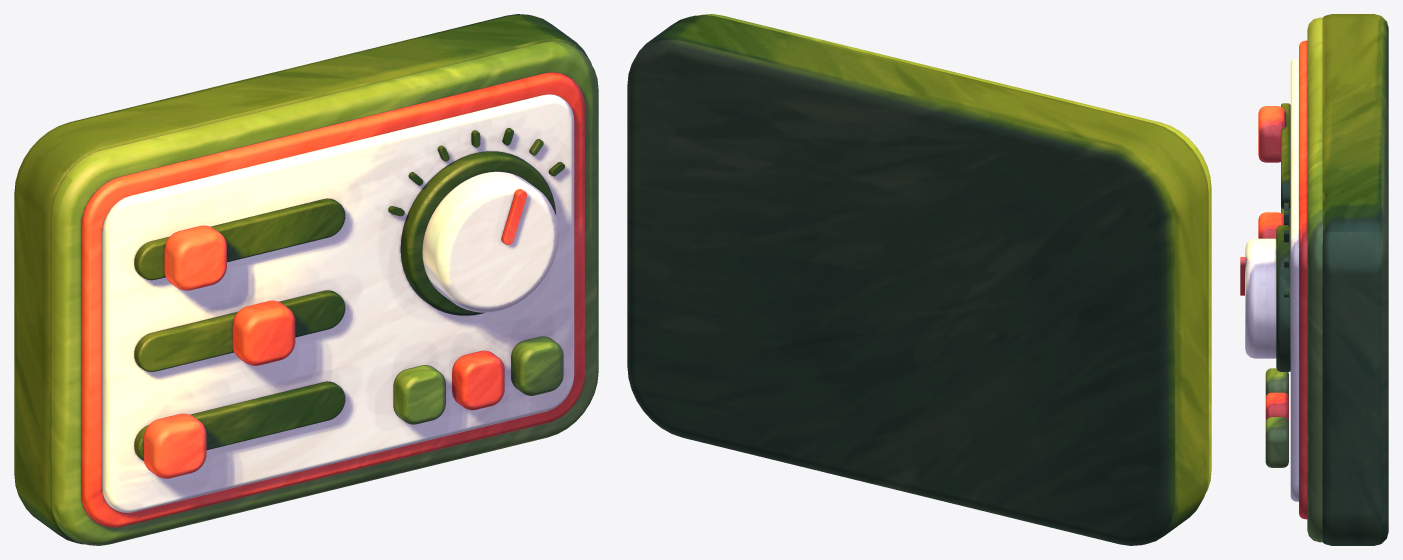
Rendered from settings.glb.
3 views of the same model, side by side, from view 1: azimuth 30°, elevation 25°; view 2: azimuth 150°, elevation 25°; view 3: azimuth 270°, elevation 25° (orthographic). The views are drawn at different scales.
Visible parts, largest first — view 1: Ivory face.001, Enamel bezel.001, Deep olive case.001, Continuous coral trim.001, Rotary knob, Slider channel.002, Slider channel, Slider channel.001, Dial socket, Slider handle.002, Slider handle.001, Slider handle (+4 smaller); view 2: Deep olive case.001, Enamel bezel.001; view 3: Deep olive case.001, Enamel bezel.001, Continuous coral trim.001, Ivory face.001, Rotary knob, Dial socket, Slider handle, Control button.002, Slider channel, Control button.001, Slider handle.001, Control button (+1 smaller).
Boxes of the visible parts, x1,y1,x2,y2 form: Ivory face.001: (102,94,574,512); Enamel bezel.001: (51,41,598,545); Deep olive case.001: (14,14,591,544); Continuous coral trim.001: (81,72,584,527); Rotary knob: (422,171,558,312); Slider channel.002: (134,381,345,460); Slider channel: (134,198,345,280); Slider channel.001: (134,290,345,371); Dial socket: (400,151,555,315); Slider handle.002: (143,413,206,478); Slider handle.001: (232,300,295,365); Slider handle: (164,225,226,290); Deep olive case.001: (627,15,1208,545); Enamel bezel.001: (700,14,1211,493); Deep olive case.001: (1322,14,1388,545); Enamel bezel.001: (1307,17,1322,542); Continuous coral trim.001: (1299,40,1307,519); Ivory face.001: (1290,58,1298,501); Rotary knob: (1245,238,1276,358); Dial socket: (1276,225,1290,371); Slider handle: (1258,106,1285,162); Control button.002: (1265,417,1288,467); Slider channel: (1281,103,1290,208); Control button.001: (1265,392,1288,421); Slider handle.001: (1258,212,1283,238); Control button: (1265,368,1288,397).
Size of the model in its own units: 2.42 by 1.68 by 0.665.
Materials: 6 (6 with a texture image).
